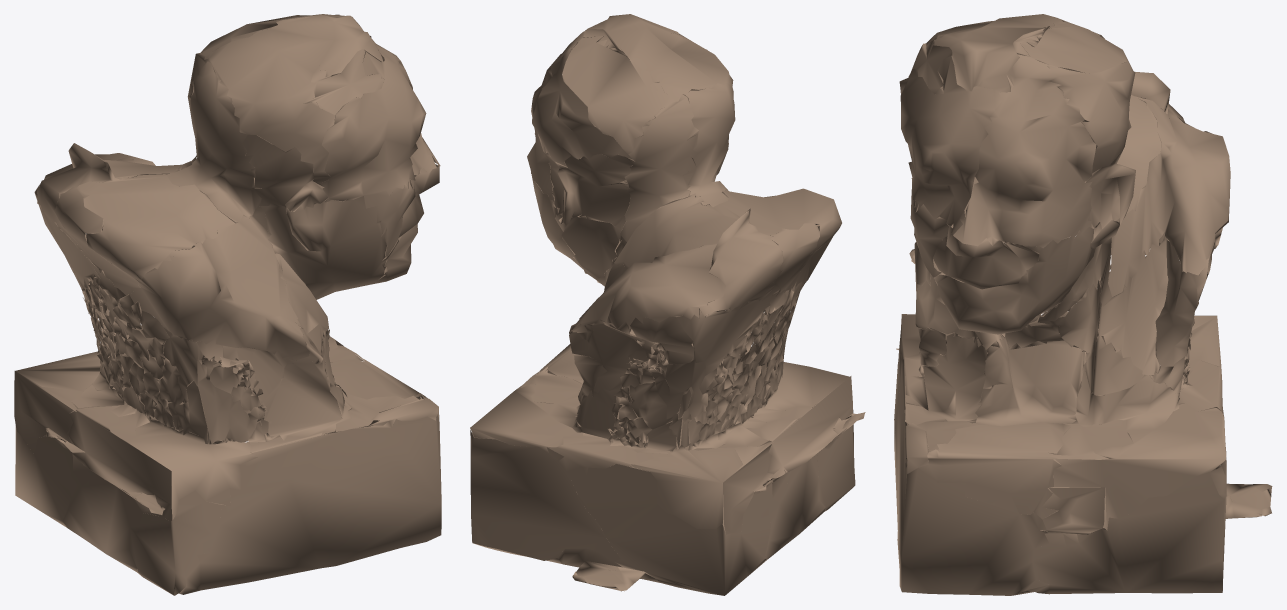
Rendered from yuan-h31-far.glb.
3 renders of one model, left to right at view 1: azimuth 30°, elevation 25°; view 2: azimuth 150°, elevation 25°; view 3: azimuth 270°, elevation 25°, orthographic. The views are drawn at different scales.
Visible parts, largest first — view 1: tripo_node_1e362390-e7c6-459c-a6c8-8de0525f3187; view 2: tripo_node_1e362390-e7c6-459c-a6c8-8de0525f3187; view 3: tripo_node_1e362390-e7c6-459c-a6c8-8de0525f3187.
Part boxes in pixels (x1=…): tripo_node_1e362390-e7c6-459c-a6c8-8de0525f3187: x1=14, y1=14, x2=441, y2=595; tripo_node_1e362390-e7c6-459c-a6c8-8de0525f3187: x1=470, y1=14, x2=865, y2=595; tripo_node_1e362390-e7c6-459c-a6c8-8de0525f3187: x1=894, y1=14, x2=1272, y2=595.
Size of the model in its own units: 2.08 by 3.05 by 1.97.
